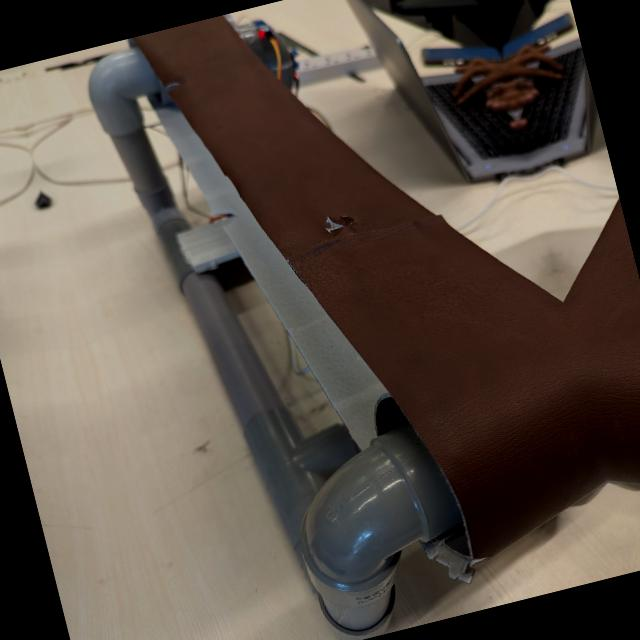joint_damage: (313, 202, 364, 245)
